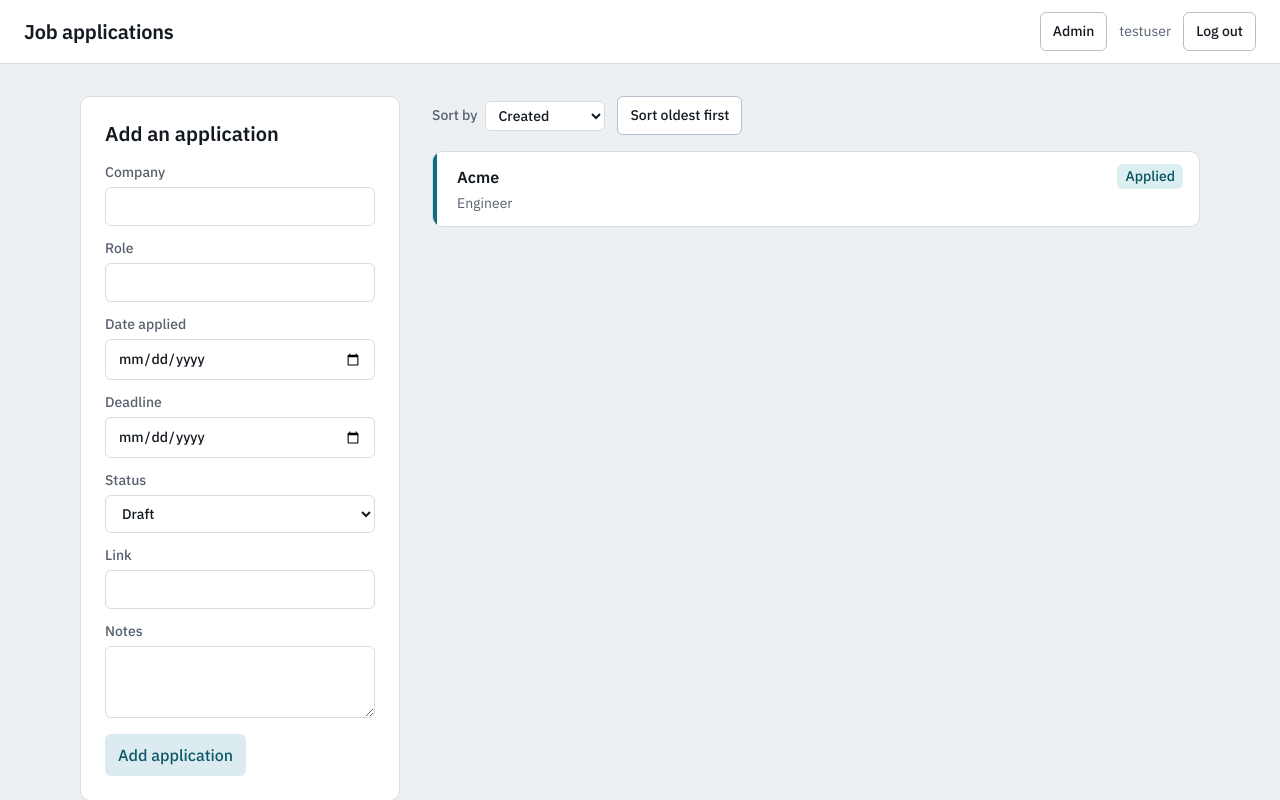
Test: an admin can switch to the admin view and back
Click the button "Admin" at (1073, 32), box [1040,12,1107,51]
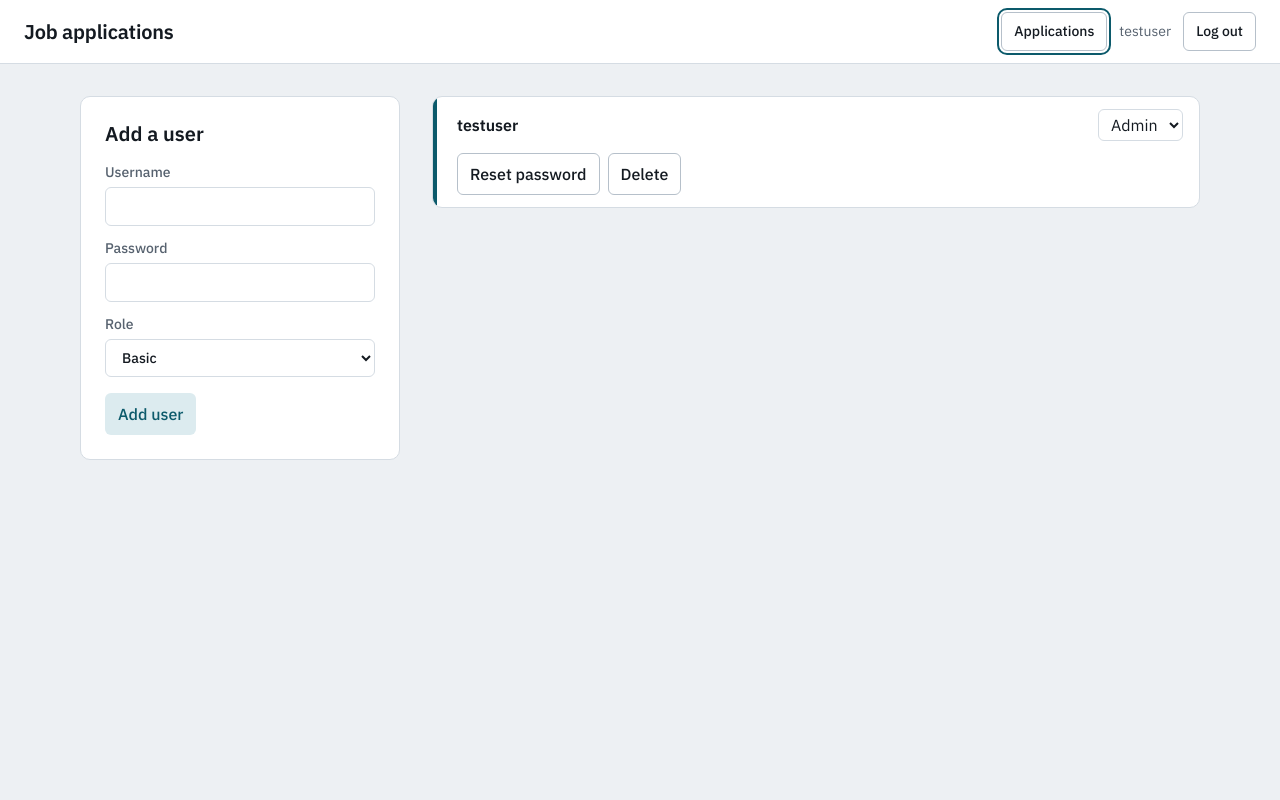
Expected: the heading "Add a user" is shown, [105,120,204,147]
Click the button "Applications" at (1054, 32), box [1001,12,1107,51]
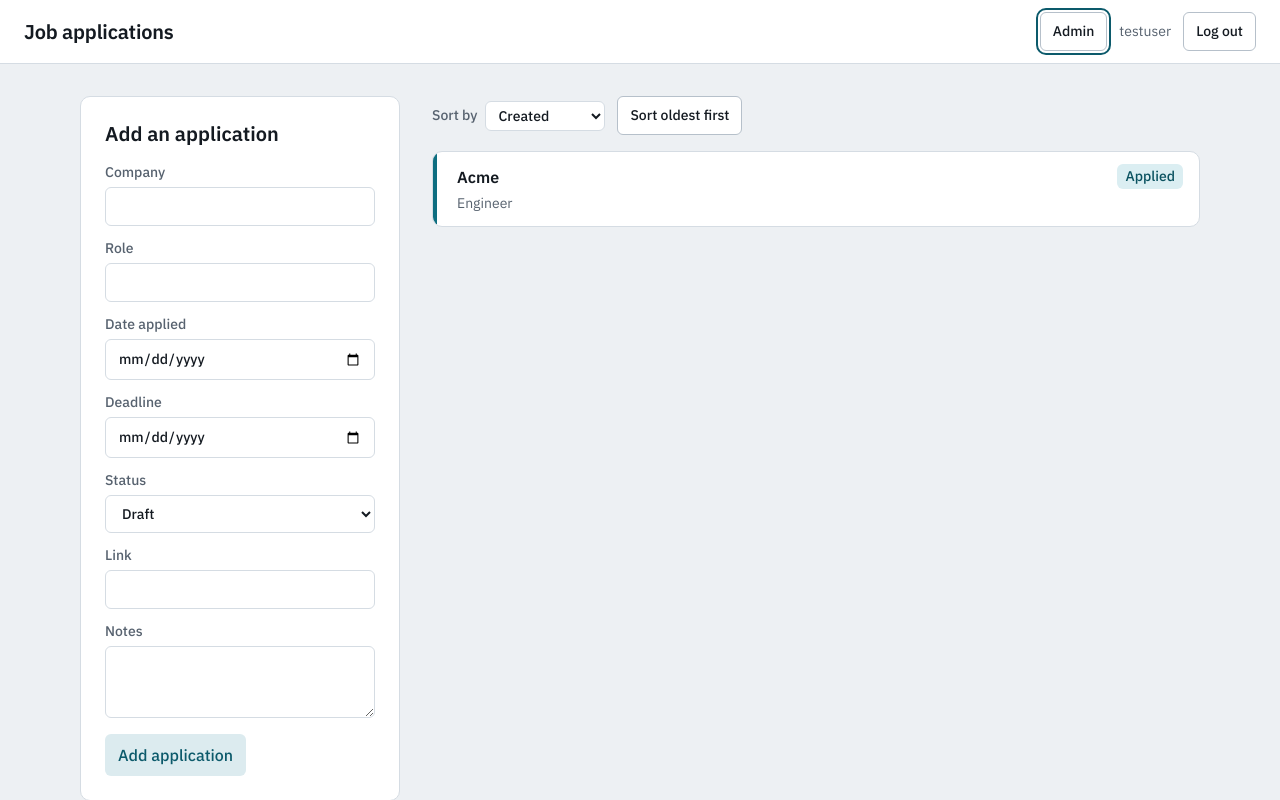
Expected: the heading "Add an application" is shown, [105,120,279,147]
